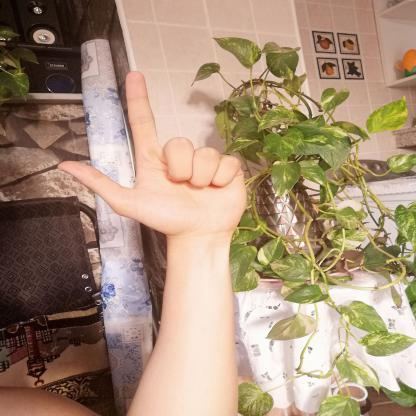LAAM: (41, 63, 258, 239)
